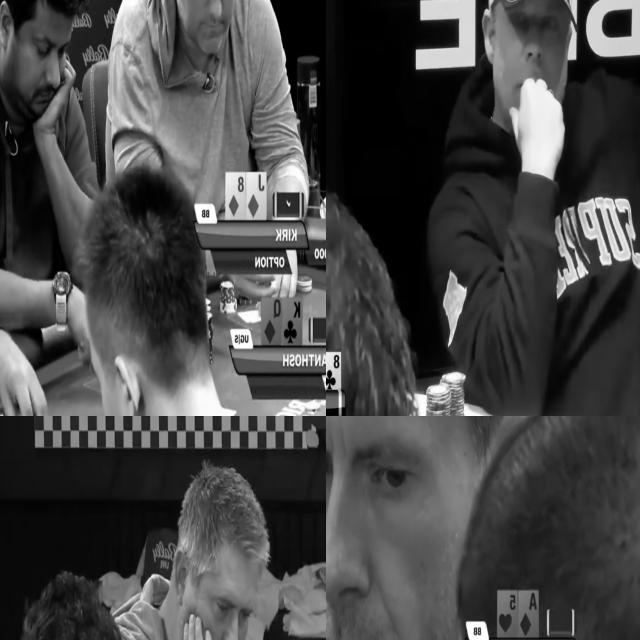5H: (498, 591, 517, 635)
8C: (326, 352, 340, 389)
8D: (226, 172, 246, 221)
AD: (520, 591, 538, 636)
JD: (246, 173, 266, 219)
KC: (281, 298, 302, 346)
QD: (261, 298, 282, 344)
